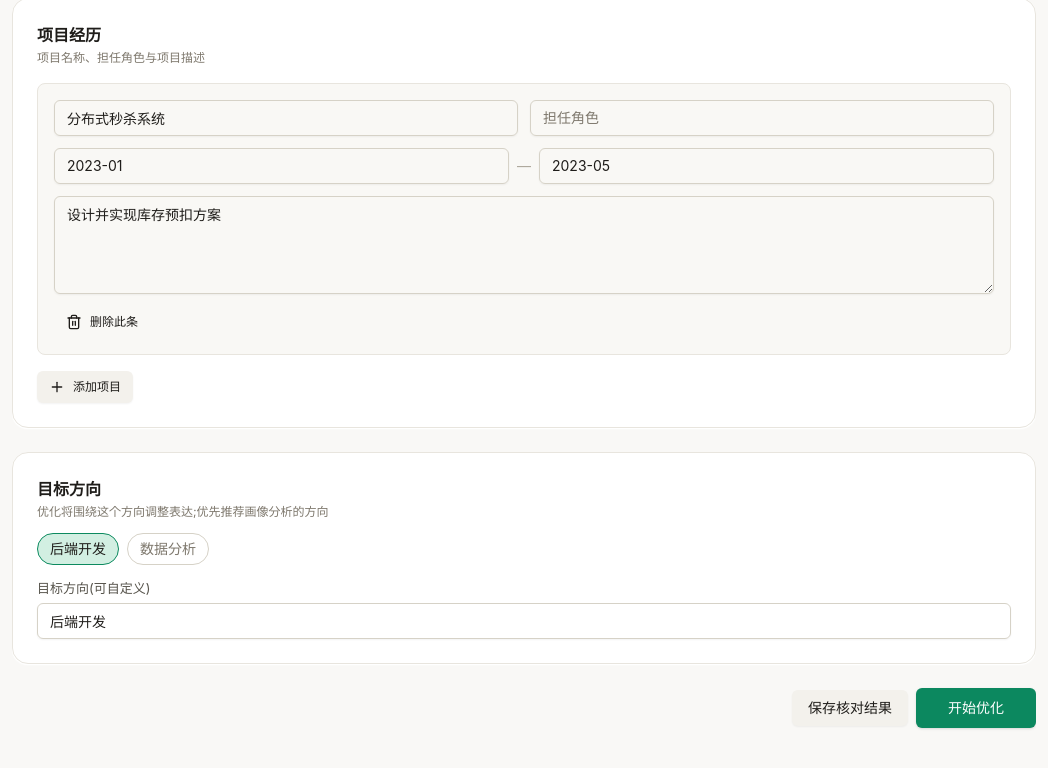
Test: ResumeReview › 回调失败:显示错误文案
(page scrolled)
Click the button "开始优化" at [976, 708], box [916,688,1036,728]
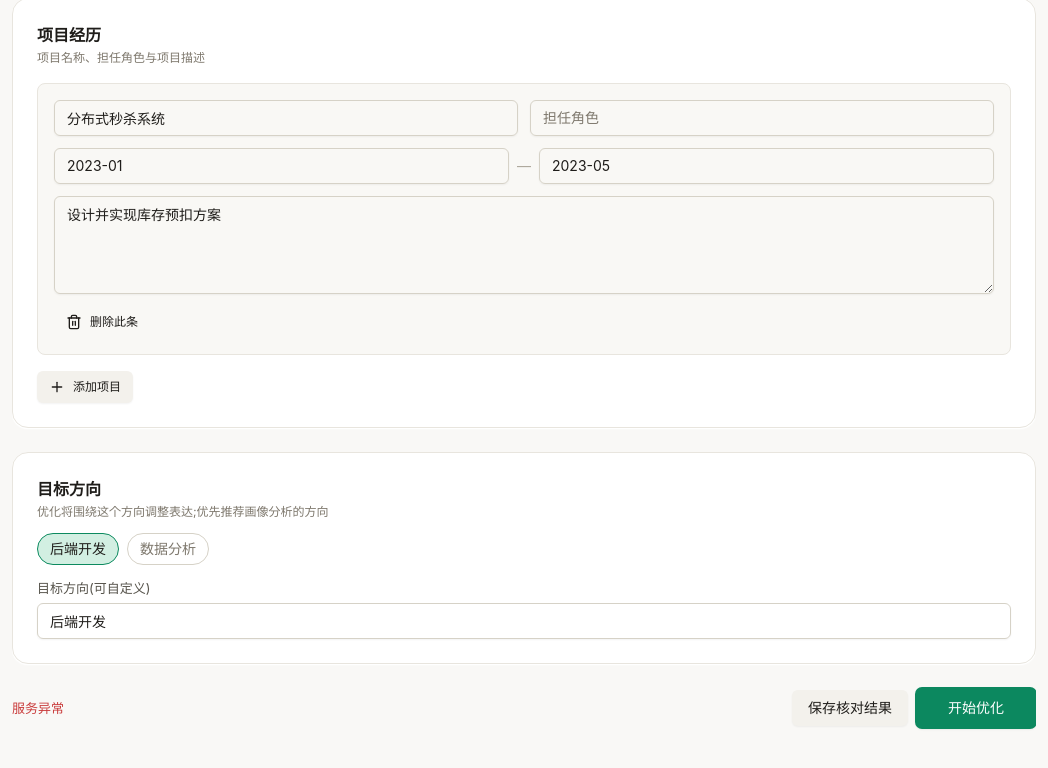
Check: the text "服务异常" is shown, box [12,698,64,718]
